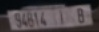1: (34, 12, 39, 27)
4: (22, 12, 27, 27), (41, 12, 46, 26)
8: (77, 8, 85, 23), (27, 12, 34, 27)
9: (14, 12, 21, 29)
a: (59, 9, 64, 25)
